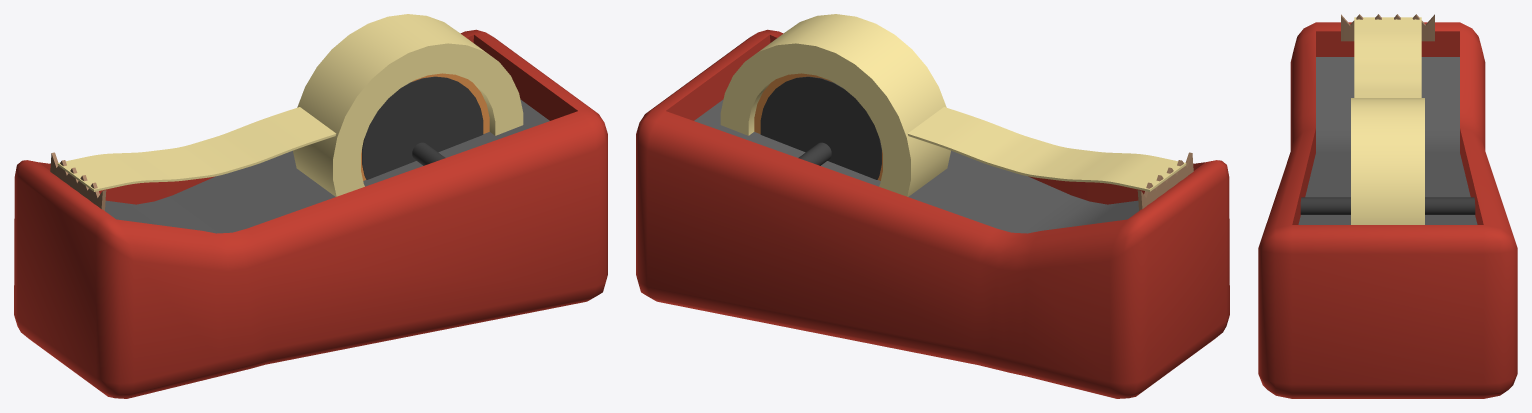
Rendered from Tape.fbx.
3 views of the same model, side by side, from view 1: azimuth 30°, elevation 25°; view 2: azimuth 150°, elevation 25°; view 3: azimuth 270°, elevation 25° (orthographic). The views are drawn at different scales.
Parts seen in each view (by area): view 1: Tape; view 2: Tape; view 3: Tape.
Part boxes in pixels (box(x1,y1,x2,y2)): Tape: box(14, 14, 607, 398); Tape: box(636, 14, 1229, 398); Tape: box(1258, 14, 1517, 398).
Bounding box in the file's own units: 0.2551 × 0.1273 × 0.1267.
